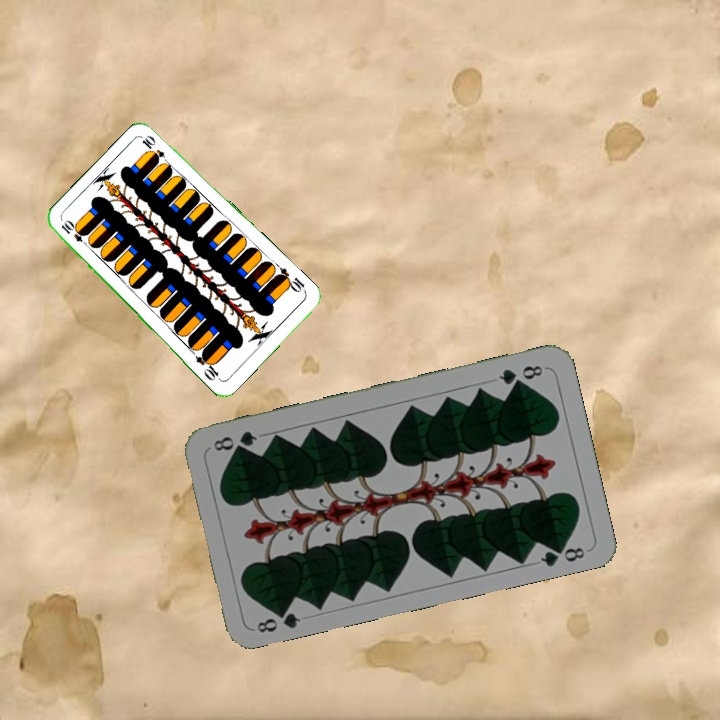E10: (272, 264, 309, 296), (57, 217, 92, 249)
G8: (253, 604, 303, 636), (494, 361, 546, 388)
